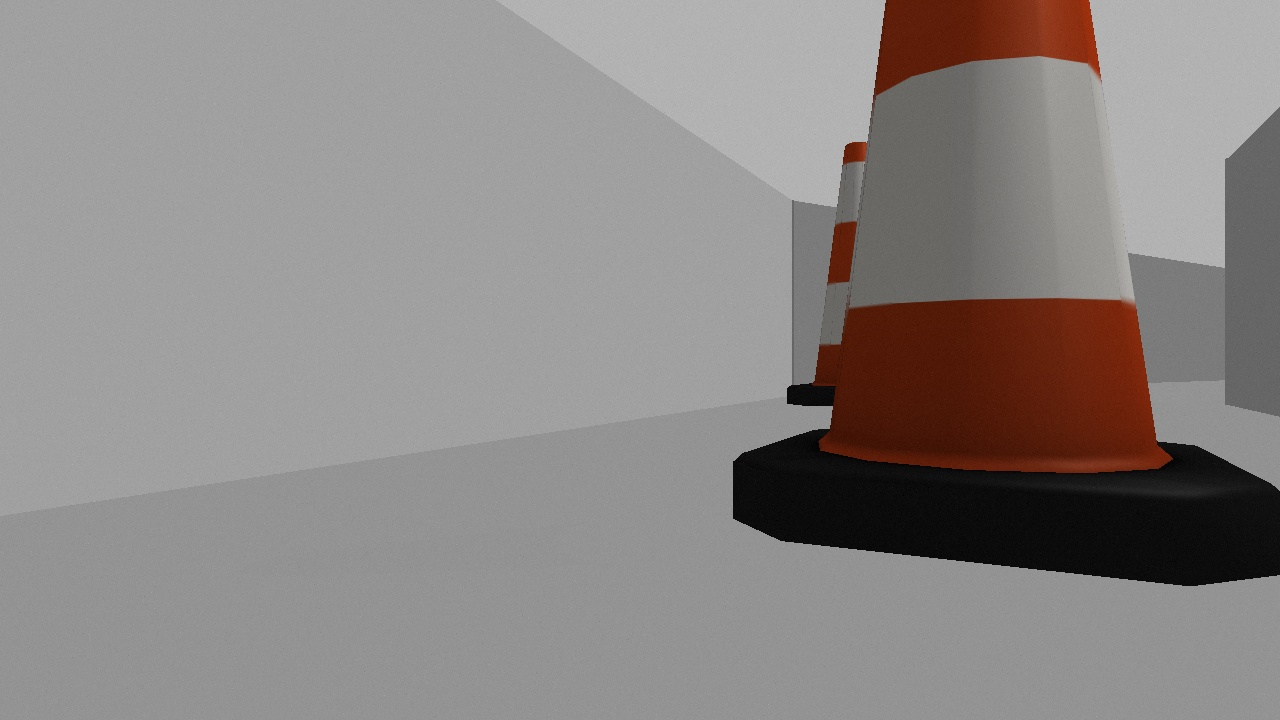barricade: (731, 1, 1280, 589), (787, 133, 913, 406)
